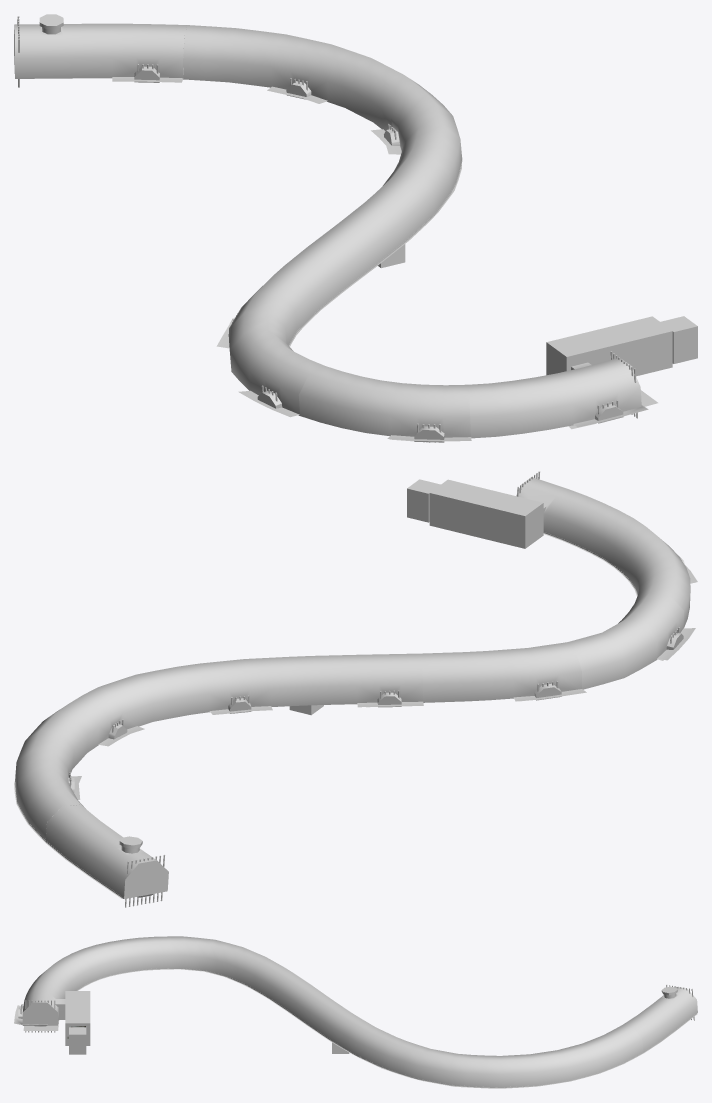
File: Sewernew.fbx
3 views of the same model, one above another, from view 1: azimuth 30°, elevation 25°; view 2: azimuth 150°, elevation 25°; view 3: azimuth 270°, elevation 25° (orthographic). The views are drawn at different scales.
Visible parts, largest first — view 1: tunel, oda, yer, asansor, parmaklıklar, su; view 2: tunel, oda, yer, asansor, parmaklıklar; view 3: tunel, oda, su, asansor.
Boxes of the visible parts, box(x1,y1,x2,y2) form: tunel: box(14, 14, 641, 442); oda: box(546, 316, 672, 376); yer: box(112, 70, 648, 441); asansor: box(660, 316, 697, 363); parmaklıklar: box(17, 16, 637, 442); su: box(183, 68, 657, 441); tunel: box(15, 477, 690, 898); oda: box(429, 479, 543, 548); yer: box(15, 534, 697, 897); asansor: box(407, 479, 440, 522); parmaklıklar: box(69, 471, 682, 907); tunel: box(18, 936, 697, 1087); oda: box(65, 991, 90, 1045); su: box(23, 969, 697, 1088); asansor: box(69, 1027, 86, 1054).
Bounding box in the file's own units: 3630 × 617 × 7881.
